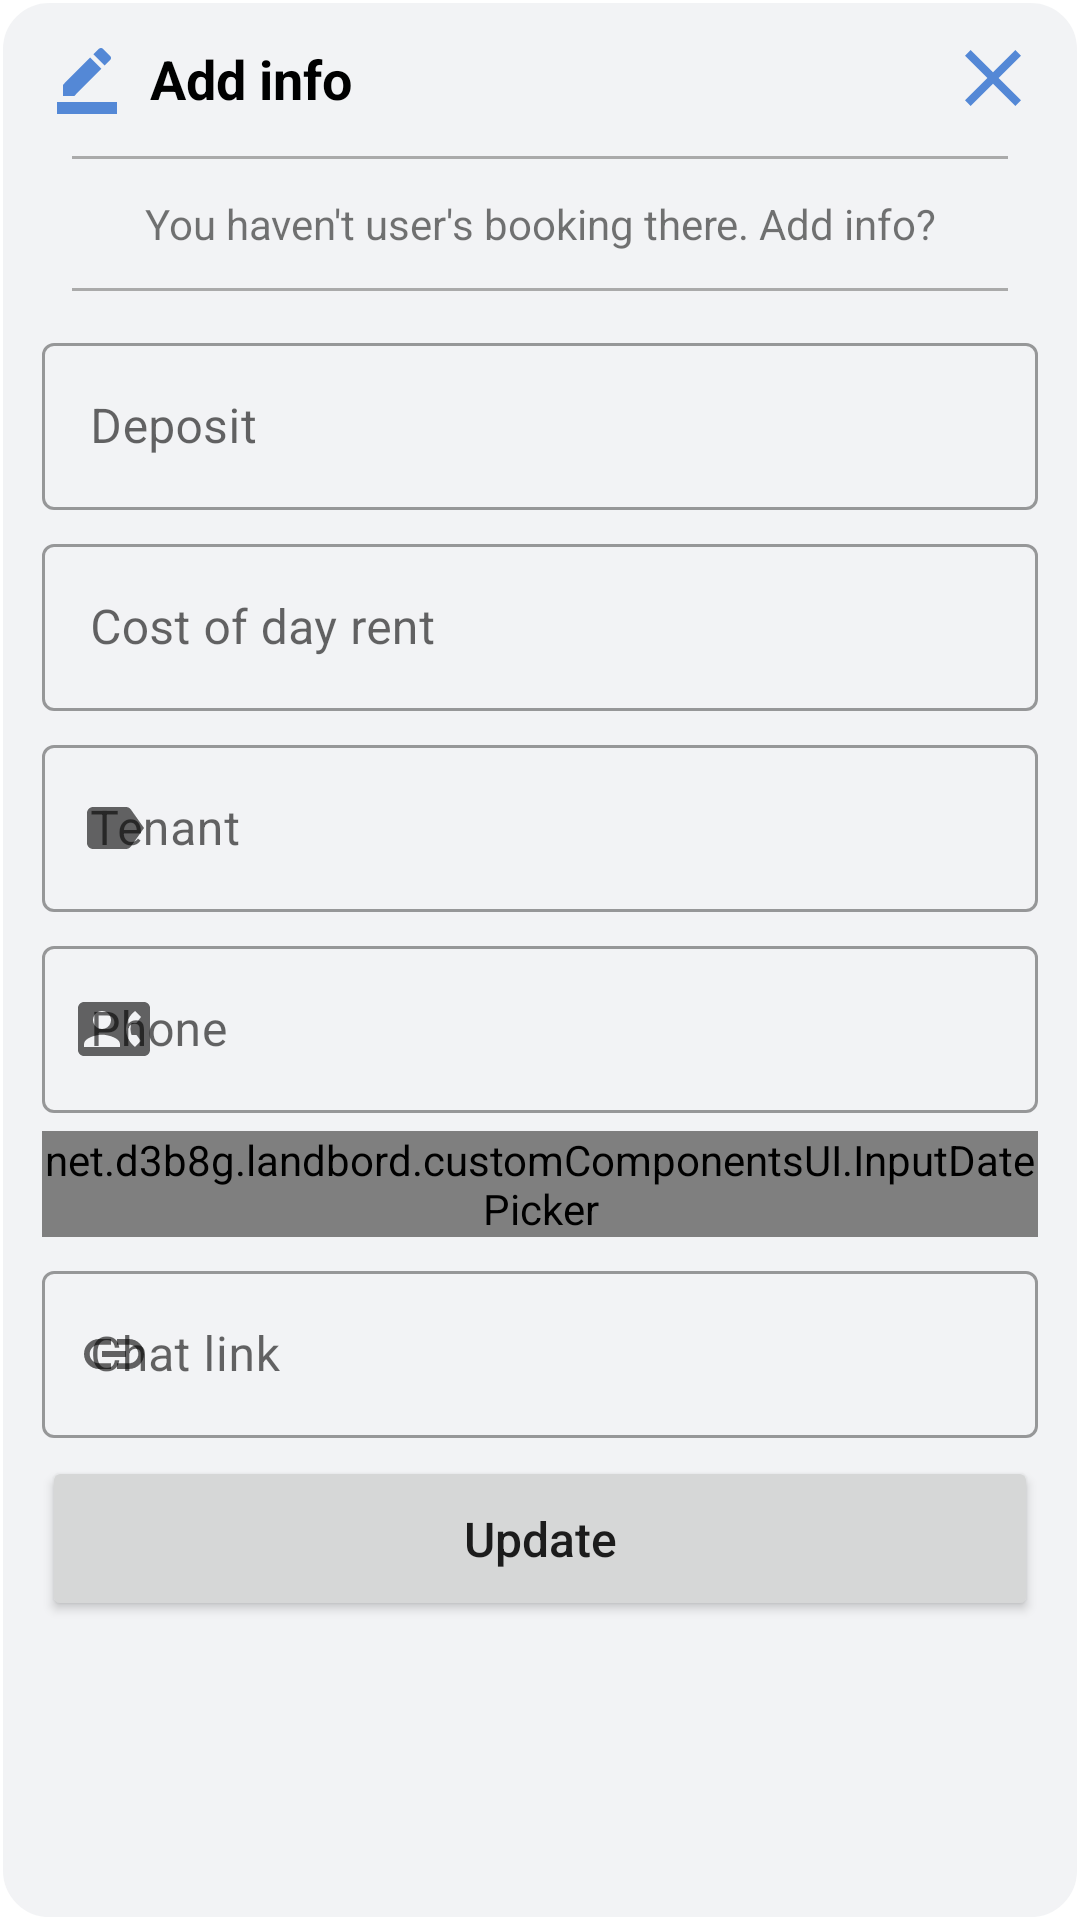

Locate icon controls on the screen. Image size 1080w x 1920h, boxes as (x1, y1, x2, y2).
close: (965, 50, 1021, 106)
write: (57, 48, 117, 114)
